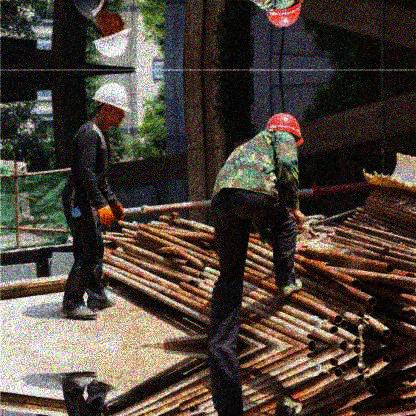helmet: (90, 9, 137, 59), (92, 83, 131, 133), (265, 112, 304, 149), (259, 1, 305, 30)
